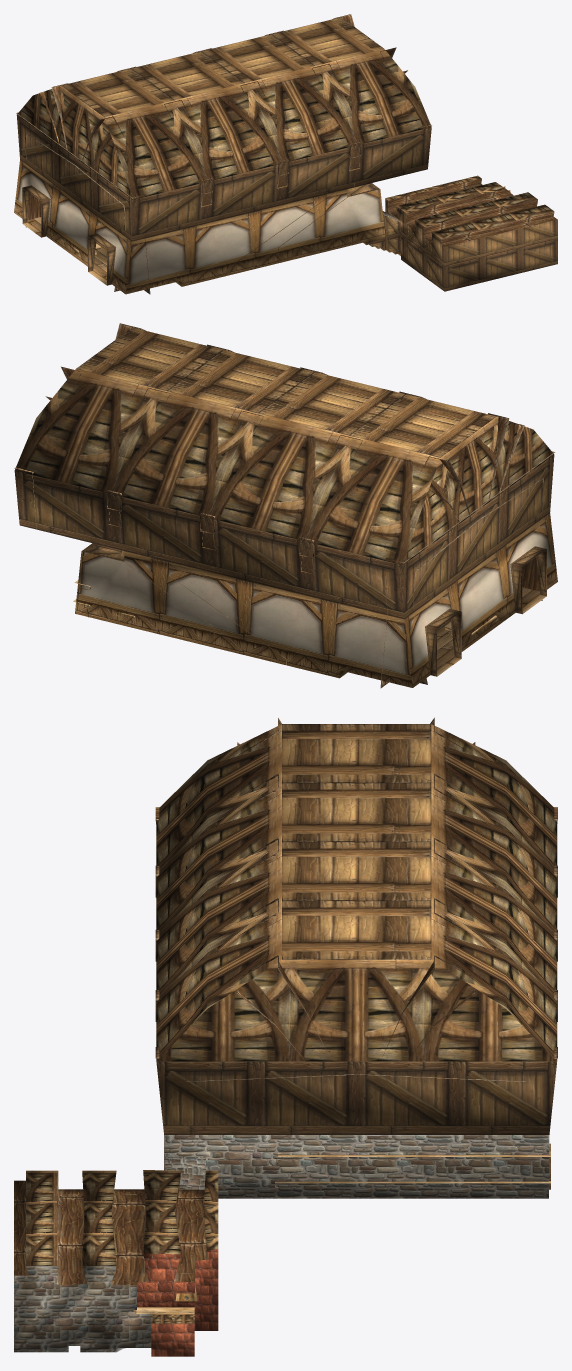
File: stormwind_248.fbx
The picture shows the model from 3 angles, top to bottom: view 1: azimuth 30°, elevation 25°; view 2: azimuth 150°, elevation 25°; view 3: azimuth 270°, elevation 25°; orthographic projection. The views are drawn at different scales.
Parts seen in each view (by area): view 1: stormwind_248_49, stormwind_248_56, stormwind_248_48, stormwind_248_55, stormwind_248_53, stormwind_248_51; view 2: stormwind_248_49, stormwind_248_56, stormwind_248_48, stormwind_248_55, stormwind_248_53, stormwind_248_51; view 3: stormwind_248_49, stormwind_248_55, stormwind_248_38, stormwind_248_56, stormwind_248_53, stormwind_248_91, stormwind_248_54.
Boxes of the visible parts, x1,y1,x2,y2 form: stormwind_248_49: (17,49,553,238); stormwind_248_56: (16,115,557,291); stormwind_248_48: (14,160,385,294); stormwind_248_55: (61,17,383,117); stormwind_248_53: (16,14,557,294); stormwind_248_51: (23,217,106,285); stormwind_248_49: (14,369,553,564); stormwind_248_56: (14,455,554,676); stormwind_248_48: (75,513,557,687); stormwind_248_55: (76,327,496,457); stormwind_248_53: (14,323,555,688); stormwind_248_51: (437,587,546,676); stormwind_248_49: (26,724,557,1323); stormwind_248_55: (282,724,431,959); stormwind_248_38: (14,1135,549,1352); stormwind_248_56: (156,1061,556,1189); stormwind_248_53: (14,717,557,1301); stormwind_248_91: (137,1248,218,1356); stormwind_248_54: (62,1143,550,1313).
Bounding box in the file's own units: 53.59 × 22.85 × 35.99.
